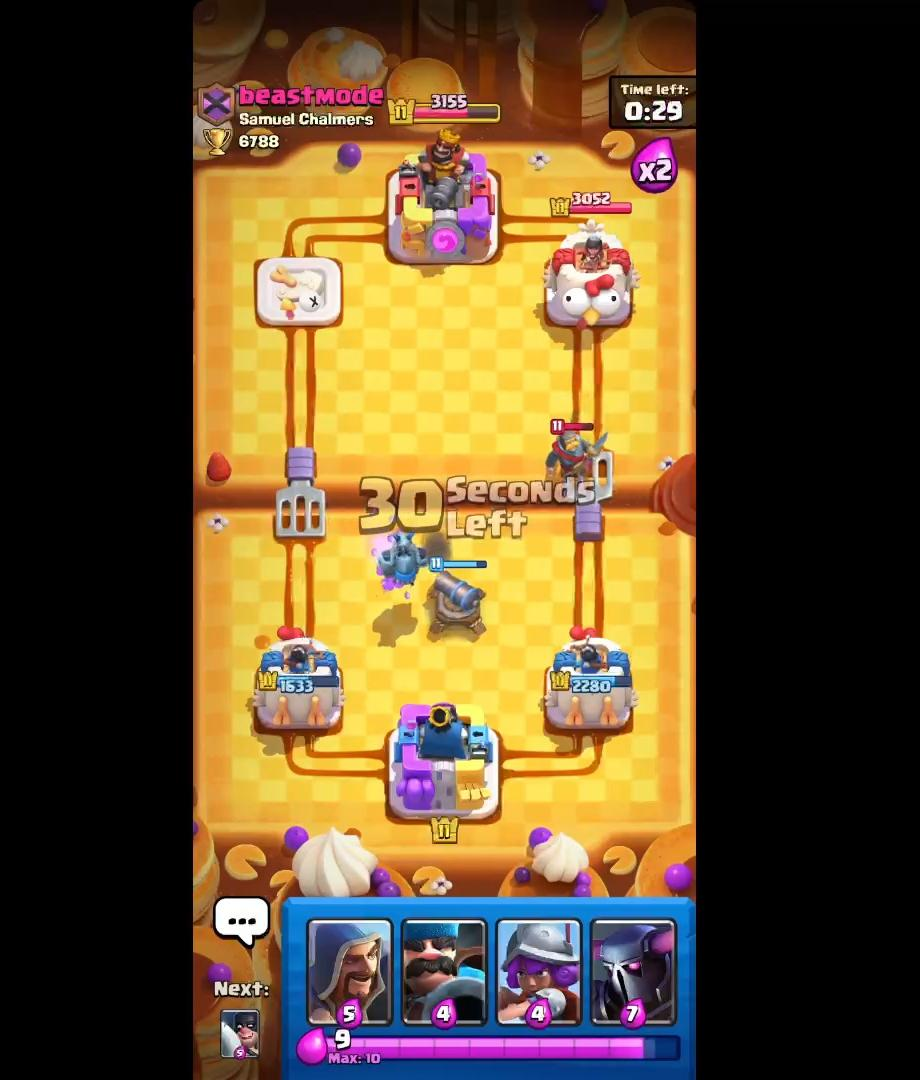Knight: (548, 416, 609, 482)
